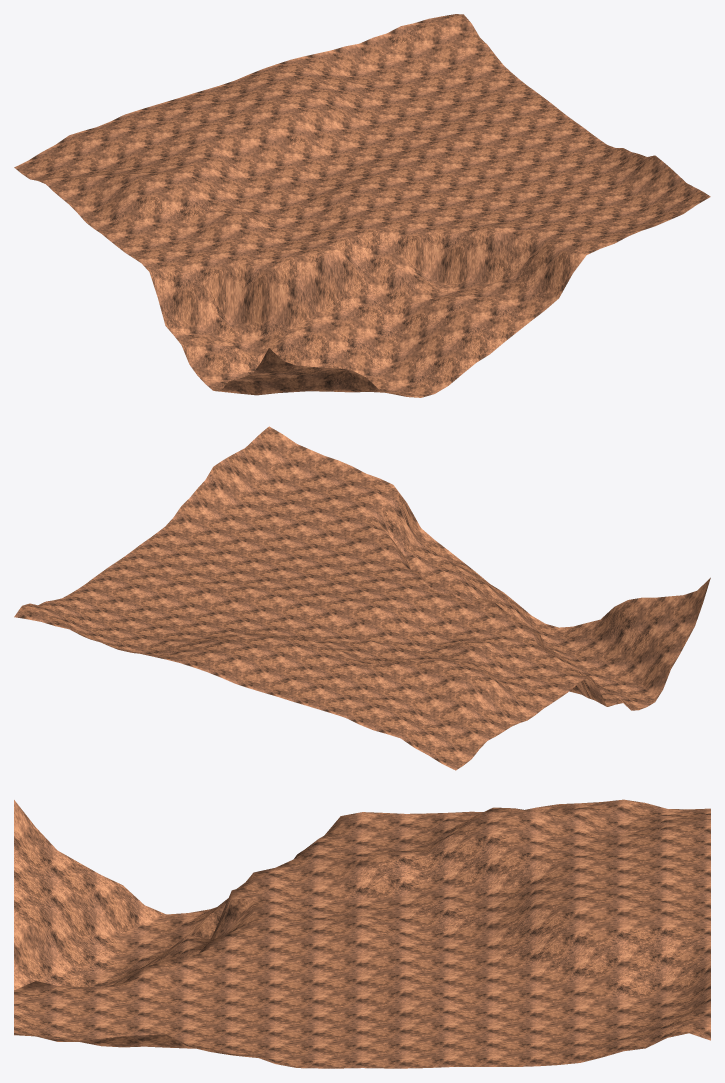
The model's file is terrain_02_18.dae.
3 views of the same model, one above another, from view 1: azimuth 30°, elevation 25°; view 2: azimuth 150°, elevation 25°; view 3: azimuth 270°, elevation 25° (orthographic). The views are drawn at different scales.
Parts seen in each view (by area): view 1: terrain_02_18-node; view 2: terrain_02_18-node; view 3: terrain_02_18-node.
Part boxes in pixels (box(x1,y1,x2,y2)): terrain_02_18-node: box(14, 14, 710, 397); terrain_02_18-node: box(14, 426, 710, 770); terrain_02_18-node: box(14, 799, 710, 1068).
Bounding box in the file's own units: 128 × 128 × 36.64.
1 material, 1 textured.
